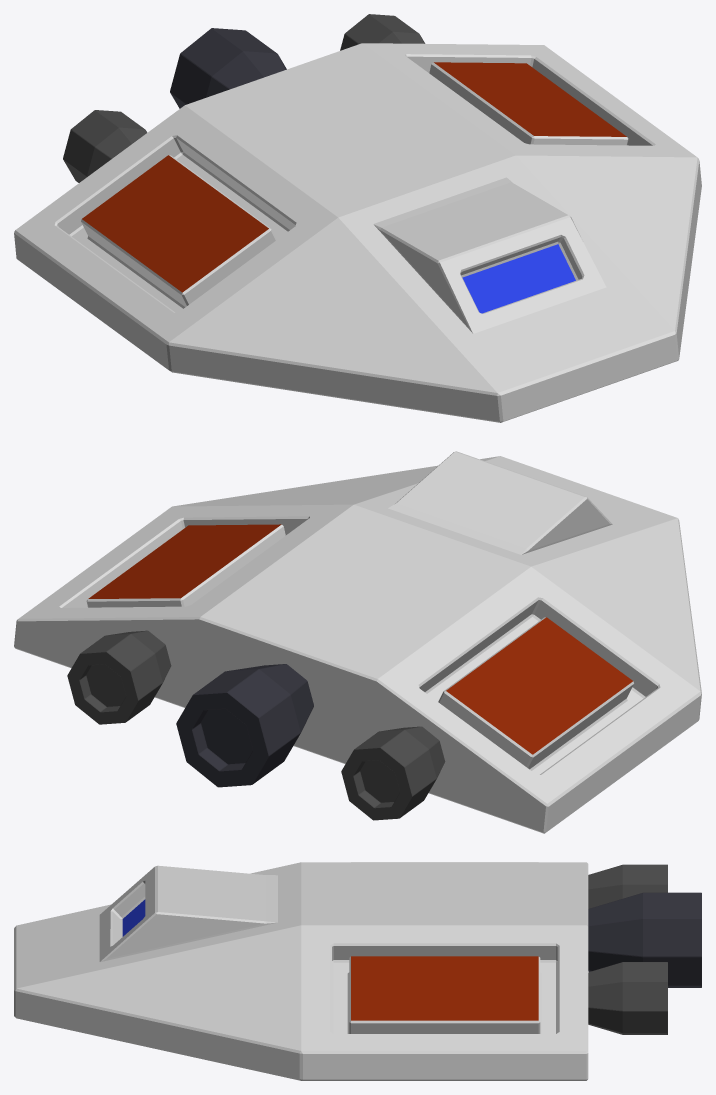
File: ROKETANİMASYONLU.fbx
The picture shows the model from 3 angles, top to bottom: view 1: azimuth 30°, elevation 25°; view 2: azimuth 150°, elevation 25°; view 3: azimuth 270°, elevation 25°; orthographic projection. The views are drawn at different scales.
Visible parts, largest first — view 1: roket, Circle, Circle.001; view 2: roket, Circle.001, Circle; view 3: roket, Circle, Circle.001.
Boxes of the visible parts, x1=… form: roket: x1=14, y1=43, x2=701, y2=422; Circle: x1=170, y1=28, x2=286, y2=108; Circle.001: x1=63, y1=14, x2=425, y2=182; roket: x1=14, y1=451, x2=701, y2=833; Circle.001: x1=67, y1=630, x2=445, y2=820; Circle: x1=176, y1=664, x2=313, y2=787; roket: x1=14, y1=862, x2=588, y2=1080; Circle: x1=588, y1=892, x2=701, y2=987; Circle.001: x1=588, y1=864, x2=667, y2=1034.
Size of the model in its own units: 200 by 48.43 by 240.
